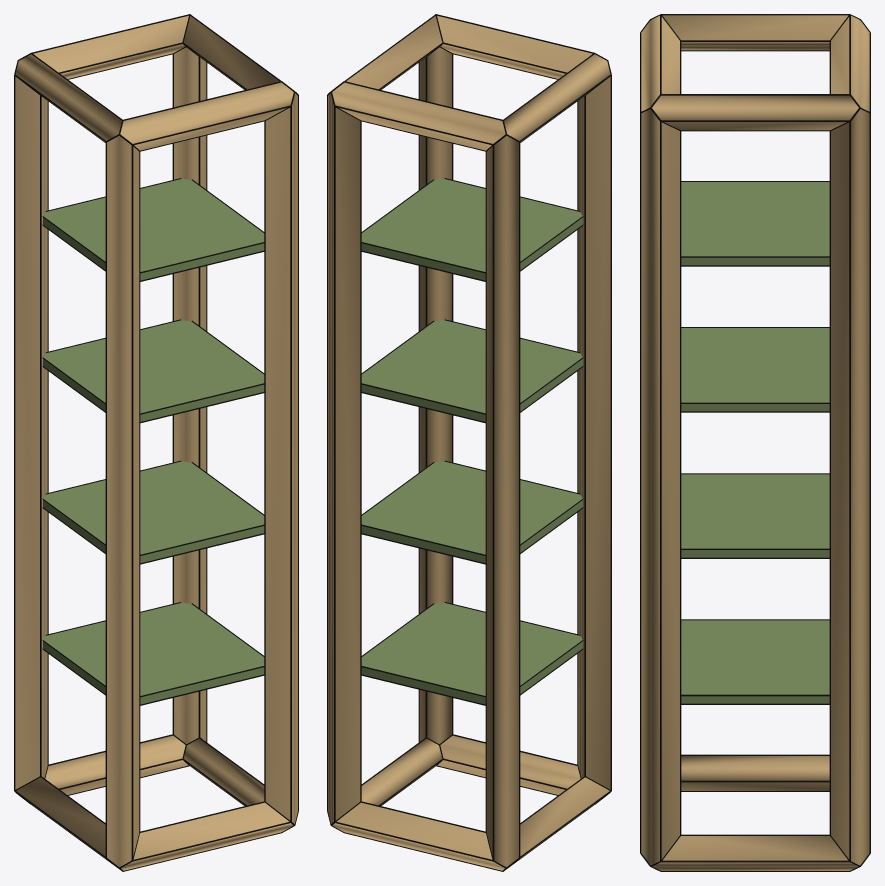
The model's file is bibliotheque-300.glb.
3 renders of one model, left to right at view 1: azimuth 30°, elevation 25°; view 2: azimuth 150°, elevation 25°; view 3: azimuth 270°, elevation 25°, orthographic. The views are drawn at different scales.
Visible parts, largest first — view 1: arete-Z0, arete-Z1, arete-Z2, mod-shelf-0, mod-shelf-1, mod-shelf-2, mod-shelf-3, arete-Z3, arete-X2, arete-wire-Z0, arete-X0, arete-X3 (+17 smaller); view 2: arete-Z2, arete-Z3, arete-Z0, mod-shelf-0, mod-shelf-1, mod-shelf-2, mod-shelf-3, arete-Z1, arete-X3, arete-wire-Z2, arete-X1, arete-X2 (+16 smaller); view 3: arete-Z1, arete-Z3, mod-shelf-3, mod-shelf-0, mod-shelf-1, mod-shelf-2, arete-Y3, arete-Y1, arete-Y2, arete-Y0, arete-wire-Z1, arete-wire-Z3 (+12 smaller).
Part boxes in pixels (x1,y1,x2,y2): arete-Z0: [107, 135, 139, 867]; arete-Z1: [265, 93, 297, 823]; arete-Z2: [15, 76, 47, 789]; mod-shelf-0: [43, 602, 264, 704]; mod-shelf-1: [43, 461, 264, 563]; mod-shelf-2: [43, 320, 264, 421]; mod-shelf-3: [43, 179, 264, 280]; arete-Z3: [174, 47, 206, 743]; arete-X2: [120, 82, 293, 150]; arete-wire-Z0: [105, 134, 140, 861]; arete-X0: [121, 802, 293, 870]; arete-X3: [33, 15, 188, 78]; arete-Z2: [486, 135, 518, 867]; arete-Z3: [328, 93, 360, 823]; arete-Z0: [578, 76, 610, 789]; mod-shelf-0: [361, 602, 582, 704]; mod-shelf-1: [361, 461, 582, 563]; mod-shelf-2: [361, 320, 582, 421]; mod-shelf-3: [361, 179, 582, 280]; arete-Z1: [419, 47, 451, 743]; arete-X3: [332, 82, 505, 150]; arete-wire-Z2: [485, 134, 520, 861]; arete-X1: [332, 802, 504, 870]; arete-X2: [437, 15, 592, 78]; arete-Z1: [641, 109, 679, 865]; arete-Z3: [831, 109, 869, 865]; mod-shelf-3: [681, 182, 829, 265]; mod-shelf-0: [681, 620, 829, 703]; mod-shelf-1: [681, 474, 829, 557]; mod-shelf-2: [681, 328, 829, 411]; arete-Y3: [652, 95, 858, 130]; arete-Y1: [652, 836, 858, 870]; arete-Y2: [662, 15, 848, 50]; arete-Y0: [681, 756, 829, 790]; arete-wire-Z1: [640, 107, 681, 861]; arete-wire-Z3: [829, 112, 870, 861].
Size of the model in its own units: 0.3309 by 1.23 by 0.3309.
